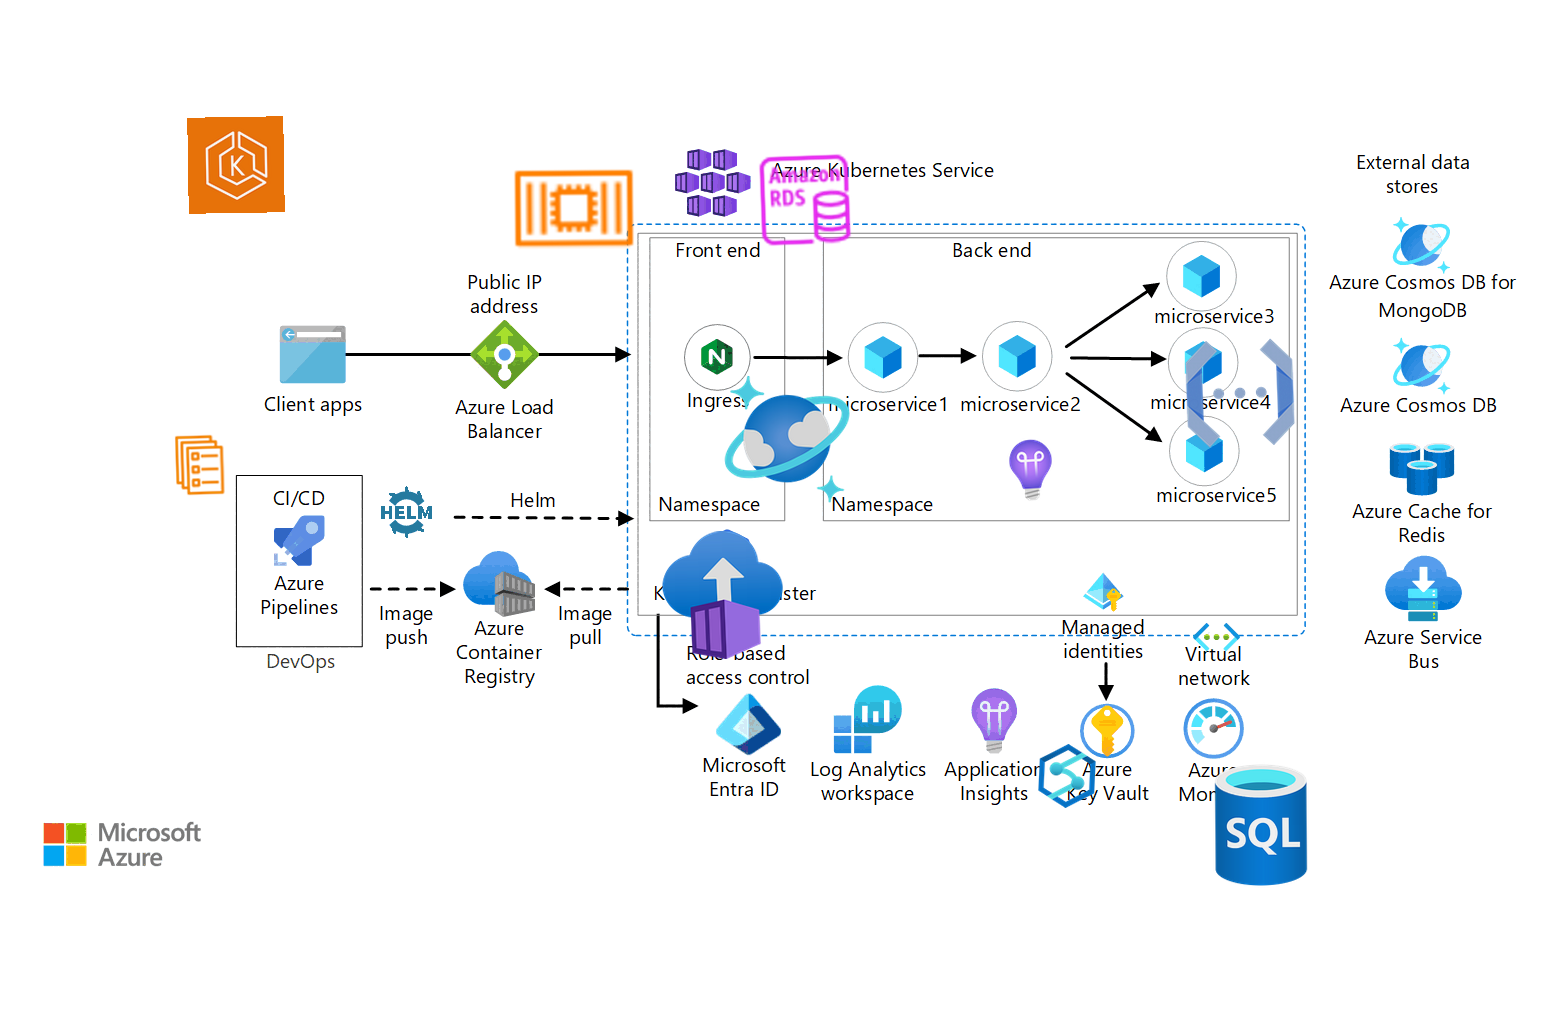aws_amazon_elastic_kubernetes_service: (187, 116, 285, 214)
aws_aurora_amazon_rds_instance: (755, 150, 855, 250)
aws_elastic_container_service_container_2: (509, 143, 639, 273)
aws_elastic_container_service_service: (167, 432, 233, 497)
azure_application_insights: (997, 436, 1066, 504)
azure_container_instances: (657, 528, 791, 663)
azure_cosmos_db: (718, 370, 856, 508)
azure_sql_database: (1196, 760, 1326, 889)
azure_synapse_analytics: (1033, 742, 1101, 810)
gcp_cloud_functions: (1173, 326, 1307, 460)
